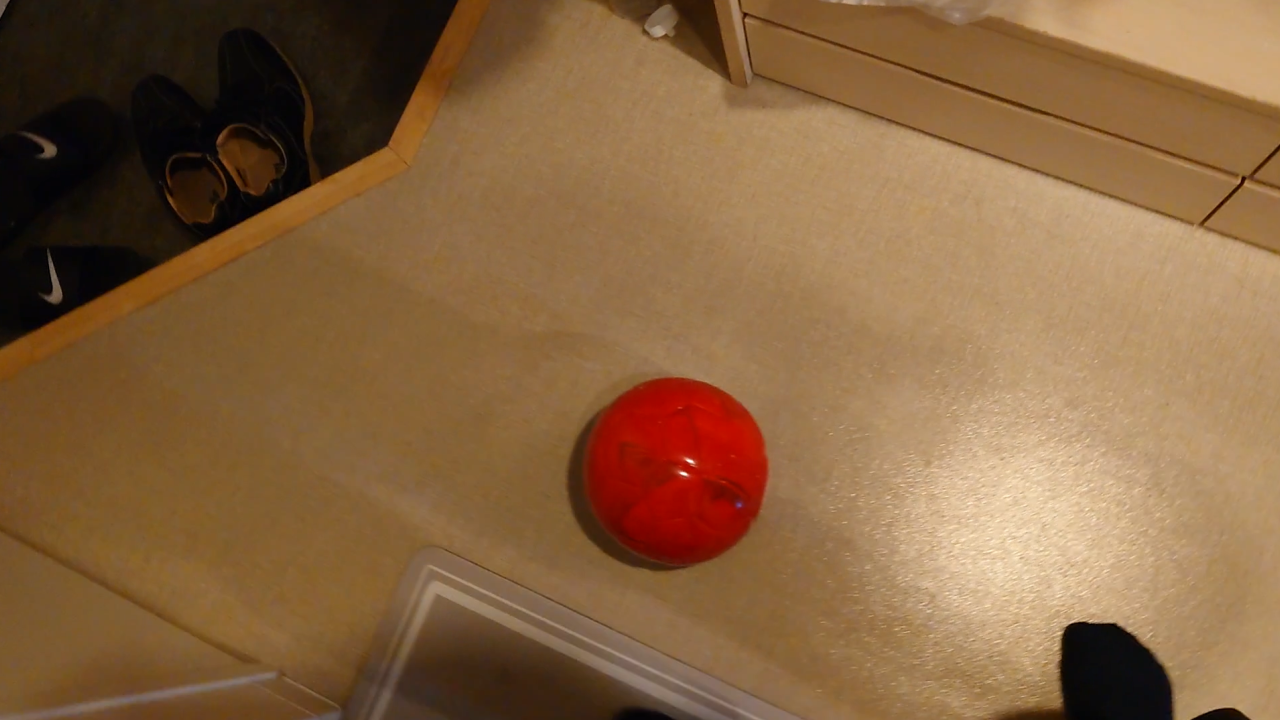red: (580, 380, 768, 562)
